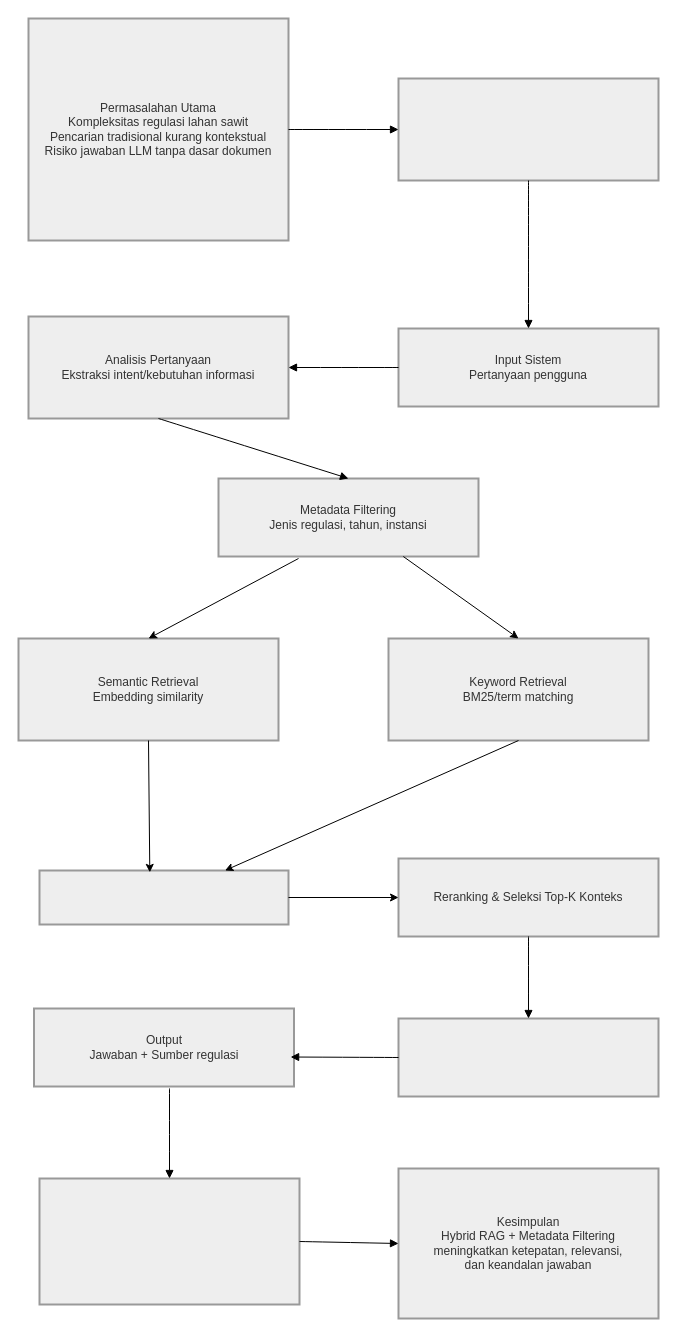
The diagram is 676 pixels wide and 1336 high, and some of its shapes have lost their labels. Each missing label, with the centre of its shape:
"Evaluasi Sistem Akurasi retrieval Relevansi jawaban Keterlacakan rujukan" goes at point (169, 1241).
"LLM Generation berbasis konteks terpilih" goes at point (528, 1057).
"Objek Penelitian Sistem Tanya Jawab Regulasi Lahan Sawit" goes at point (528, 129).
"Penggabungan Skor Hybrid" goes at point (163, 897).
